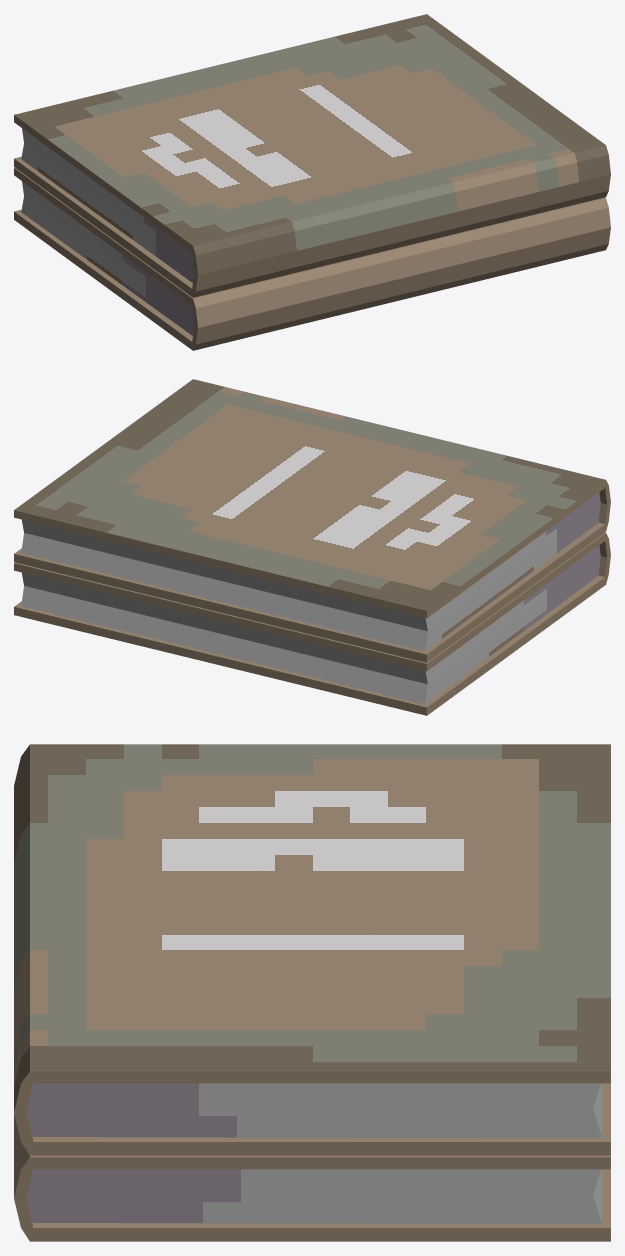
Rendered from book4.fbx.
3 renders of one model, top to bottom at view 1: azimuth 30°, elevation 25°; view 2: azimuth 150°, elevation 25°; view 3: azimuth 270°, elevation 25°, orthographic. The views are drawn at different scales.
Parts seen in each view (by area): view 1: Cube.005; view 2: Cube.005; view 3: Cube.005.
Part boxes in pixels (x1,y1,x2,y2): Cube.005: [14, 14, 610, 350]; Cube.005: [14, 379, 610, 715]; Cube.005: [14, 744, 610, 1241].
Bounding box in the file's own units: 188 × 45.62 × 145.
Materials: 1 (1 with a texture image).
